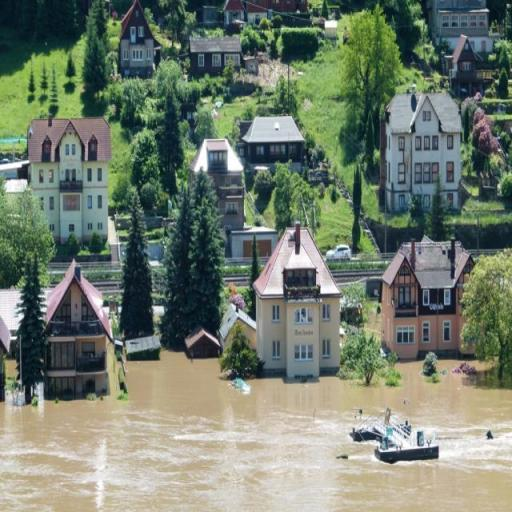flood: (0, 352, 512, 512)
house: (257, 222, 342, 380), (384, 234, 472, 360), (31, 116, 115, 247), (42, 258, 111, 403), (390, 86, 464, 212), (190, 137, 244, 231), (240, 114, 306, 168), (118, 0, 155, 78), (188, 31, 242, 80), (429, 2, 492, 42), (446, 35, 480, 89), (221, 302, 257, 349), (228, 224, 274, 258), (184, 326, 220, 358), (192, 4, 224, 29), (221, 0, 248, 23)
